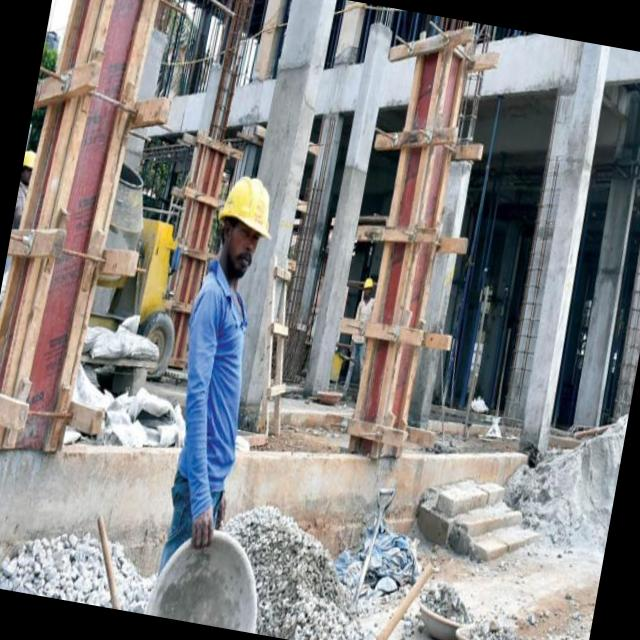Helmet: (213, 162, 289, 248)
